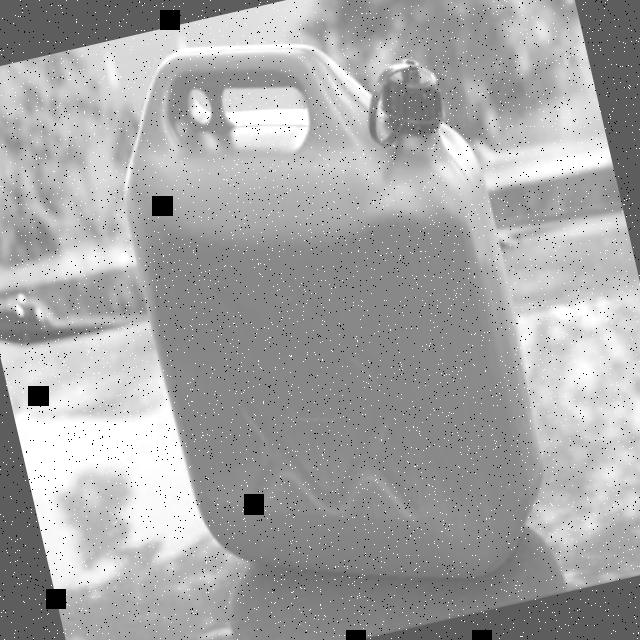chemical_plastic_gallon: (71, 0, 589, 640)
